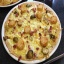pizza: (3, 3, 58, 62)
